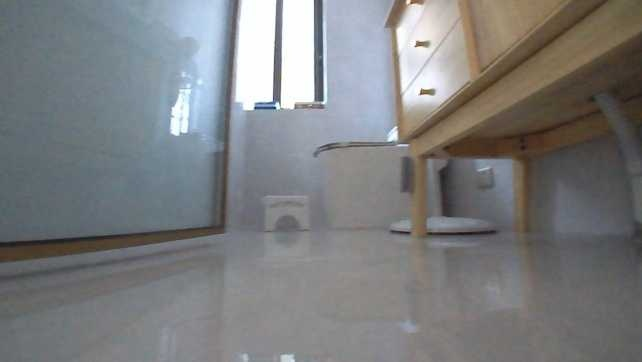chair_base: (387, 209, 498, 235)
plastic_stool: (258, 192, 313, 232)
toilet: (312, 125, 415, 230)
washstand: (380, 0, 640, 235)
